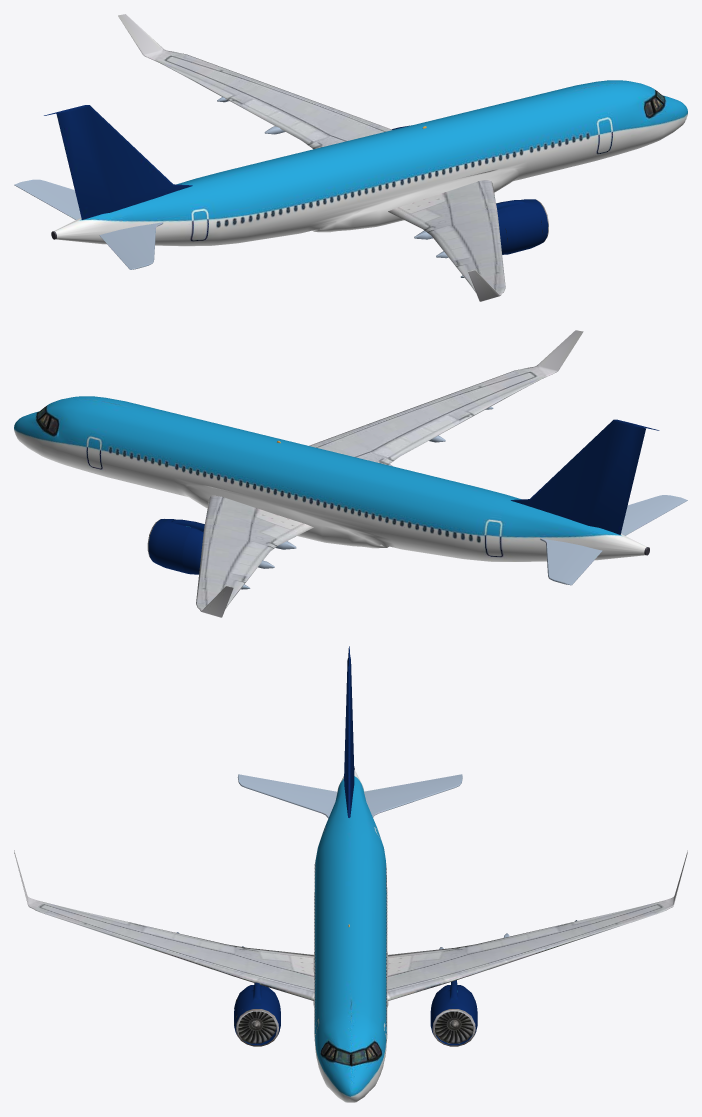
File: airliner_prepared.glb
3 views of the same model, one above another, from view 1: azimuth 30°, elevation 25°; view 2: azimuth 150°, elevation 25°; view 3: azimuth 270°, elevation 25° (orthographic). The views are drawn at different scales.
Visible parts, largest first — view 1: ANOMALIA_airliner_baked; view 2: ANOMALIA_airliner_baked; view 3: ANOMALIA_airliner_baked.
Boxes of the visible parts, x1,y1,x2,y2 form: ANOMALIA_airliner_baked: (14,14,687,301); ANOMALIA_airliner_baked: (14,330,687,617); ANOMALIA_airliner_baked: (14,646,687,1102).
Size of the model in its own units: 37.68 by 11.32 by 35.48.
1 material, 1 textured.
